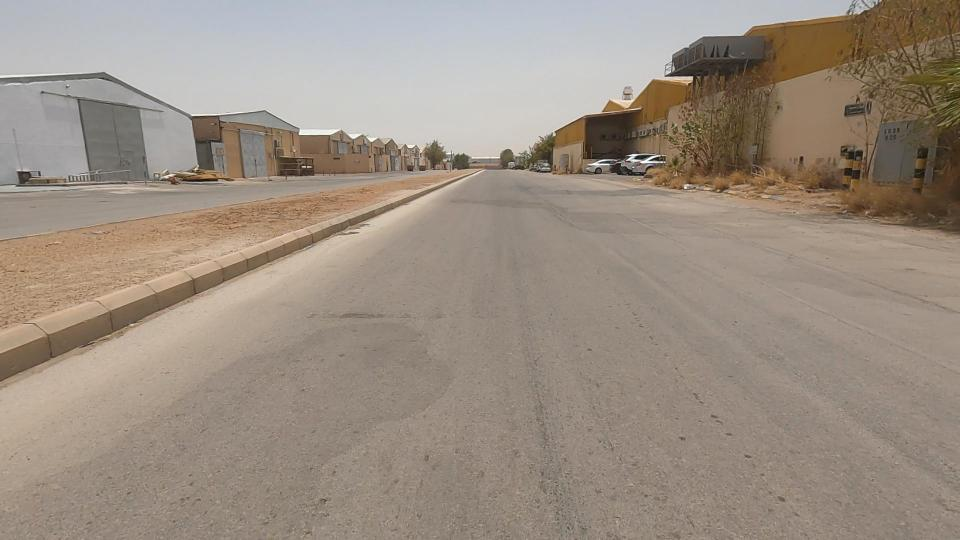GARBAGE: (635, 142, 753, 224)
